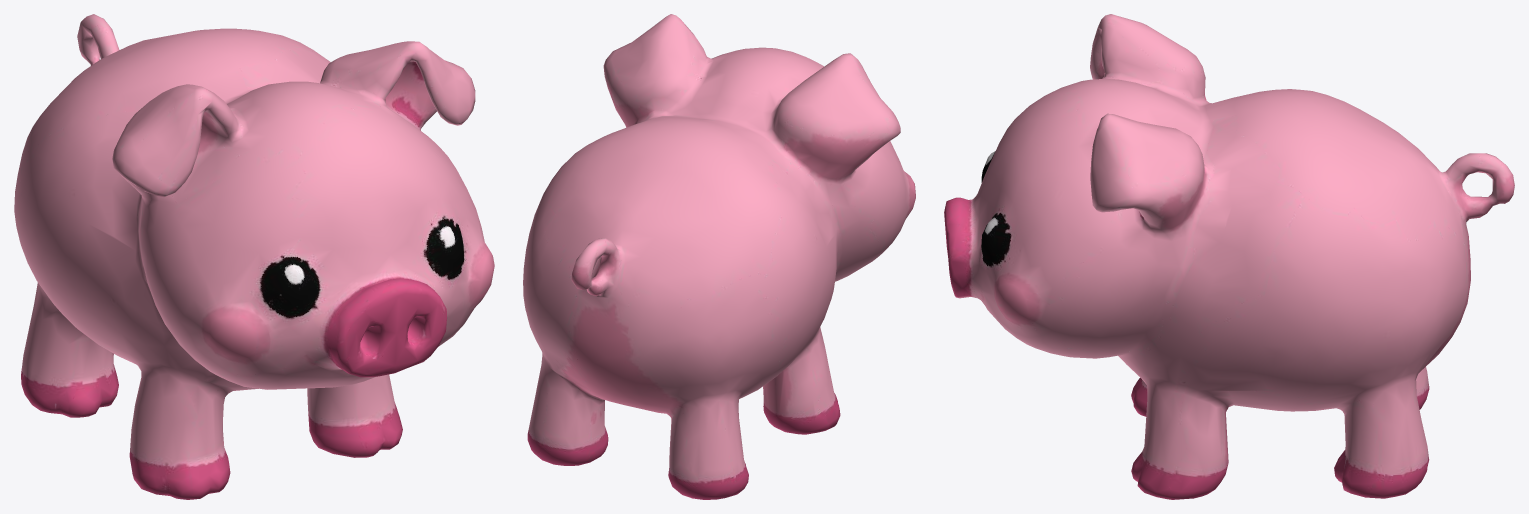
Rendered from pig.glb.
3 renders of one model, left to right at view 1: azimuth 30°, elevation 25°; view 2: azimuth 150°, elevation 25°; view 3: azimuth 270°, elevation 25°, orthographic. The views are drawn at different scales.
Parts seen in each view (by area): view 1: Mesh_0.001; view 2: Mesh_0.001; view 3: Mesh_0.001.
Part boxes in pixels (box(x1,y1,x2,y2)): Mesh_0.001: box(14, 14, 494, 499); Mesh_0.001: box(523, 14, 915, 499); Mesh_0.001: box(944, 14, 1514, 499).
Bounding box in the file's own units: 1.23 × 1.41 × 1.9.
1 material, 1 textured.
